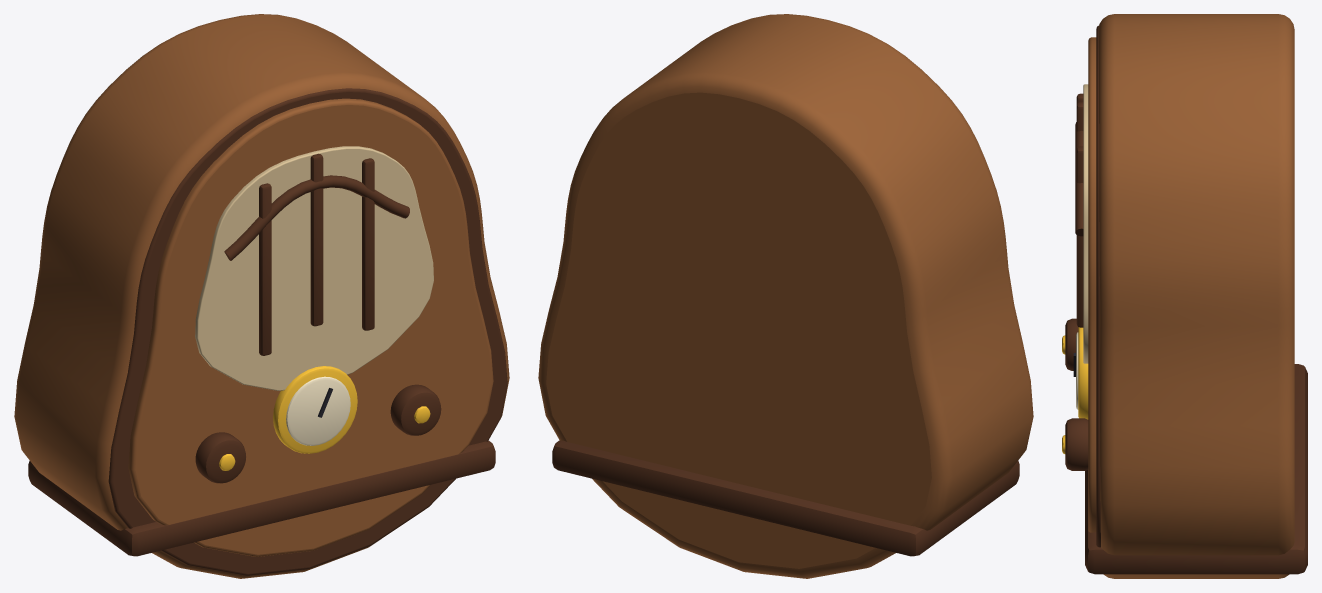
The model's file is OldRadio.fbx.
3 views of the same model, side by side, from view 1: azimuth 30°, elevation 25°; view 2: azimuth 150°, elevation 25°; view 3: azimuth 270°, elevation 25° (orthographic). The views are drawn at different scales.
Visible parts, largest first — view 1: Wood, DarkWood, Cloth, DialFace, Gold; view 2: Wood, DarkWood; view 3: Wood, DarkWood, Cloth, Gold.
Part boxes in pixels (bbox=[...]): Wood: bbox=[14, 14, 509, 578]; DarkWood: bbox=[28, 88, 507, 575]; Cloth: bbox=[195, 146, 433, 390]; DialFace: bbox=[286, 376, 350, 445]; Gold: bbox=[219, 366, 430, 470]; Wood: bbox=[538, 14, 1033, 578]; DarkWood: bbox=[552, 440, 1019, 556]; Wood: bbox=[1088, 14, 1294, 578]; DarkWood: bbox=[1065, 25, 1307, 574]; Cloth: bbox=[1083, 84, 1088, 363]; Gold: bbox=[1062, 327, 1088, 453].
Size of the model in its own units: 152 by 174 by 75.
